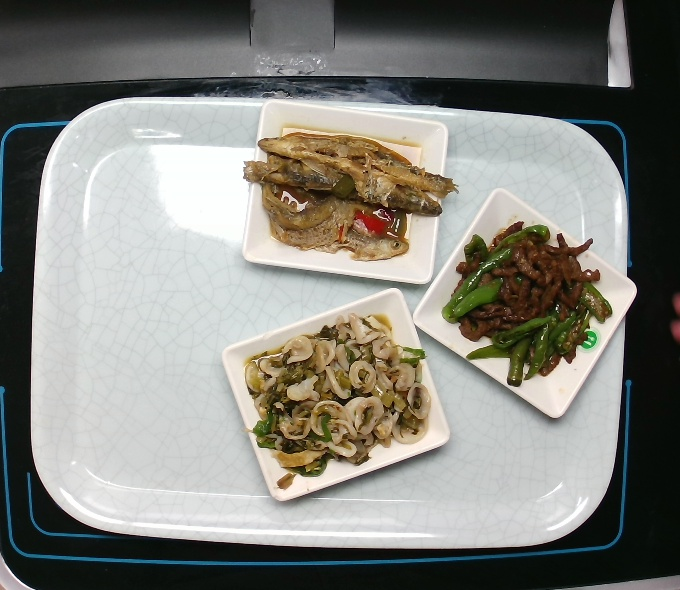wcq-QingJiaoNiuRou: (439, 216, 616, 391)
wcq-XiaoXiYu: (236, 122, 462, 265)
wcq-XueCaiYouYu: (240, 311, 434, 494)
